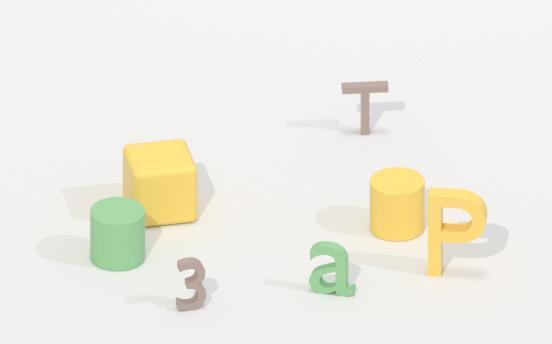chu_khoi: (427, 188, 486, 275), (309, 241, 355, 296), (342, 81, 388, 134)
lap_phuong: (122, 139, 197, 226)
so_khoi: (176, 257, 206, 310)
tru: (369, 167, 424, 241), (90, 197, 145, 270)
